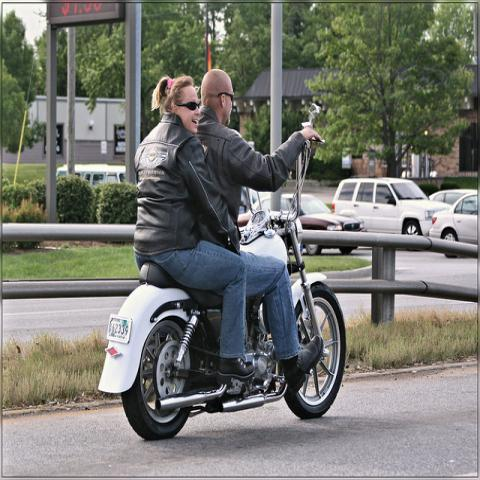car: (237, 189, 480, 257), (330, 177, 453, 237)
motorcycle: (97, 138, 348, 441)
truck: (331, 176, 453, 238), (56, 162, 126, 182)
